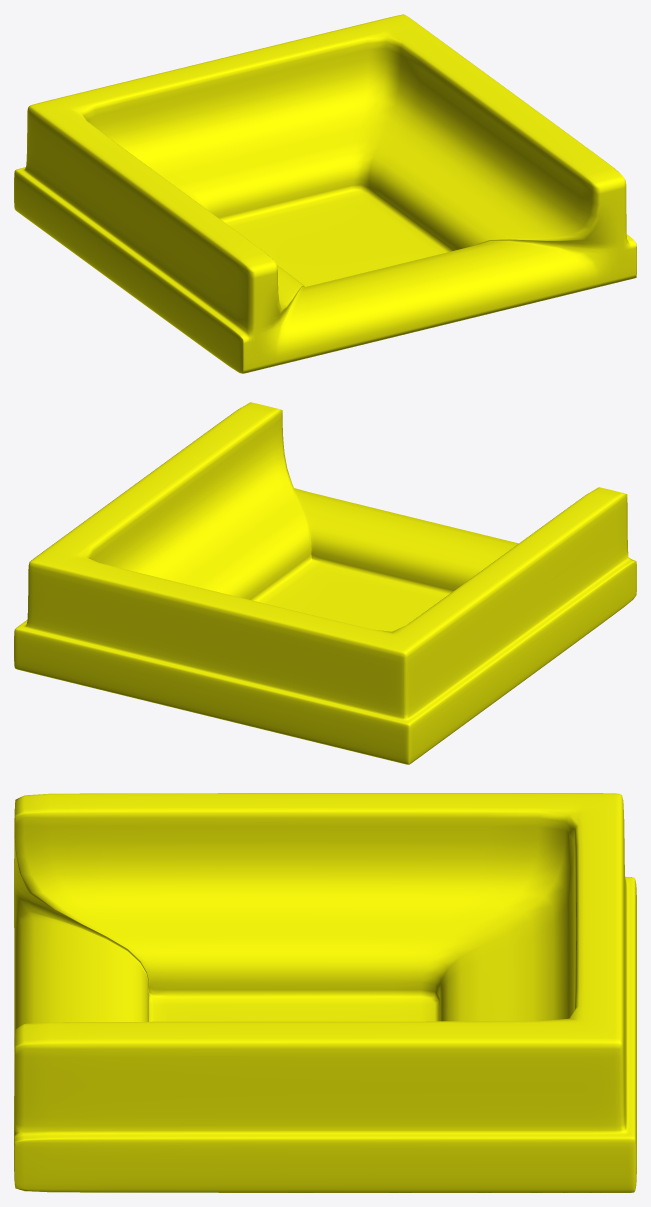
3 views of the same model, one above another, from view 1: azimuth 30°, elevation 25°; view 2: azimuth 150°, elevation 25°; view 3: azimuth 270°, elevation 25° (orthographic). The views are drawn at different scales.
Parts seen in each view (by area): view 1: pCube286; view 2: pCube286; view 3: pCube286.
Boxes of the visible parts, box(x1,y1,x2,y2) form: pCube286: box(14, 14, 636, 373); pCube286: box(14, 402, 636, 764); pCube286: box(14, 793, 636, 1192).
Bounding box in the file's own units: 0.9997 × 0.2597 × 0.9998.
